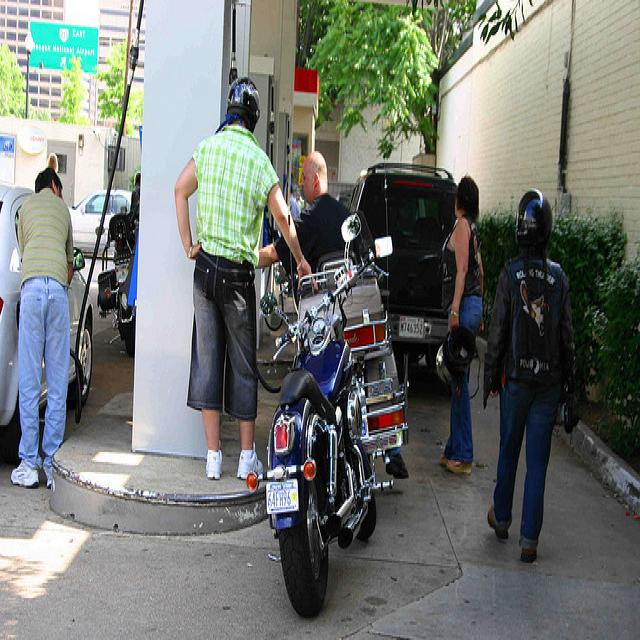motor: (244, 217, 396, 611), (295, 250, 409, 456), (97, 190, 141, 358)
